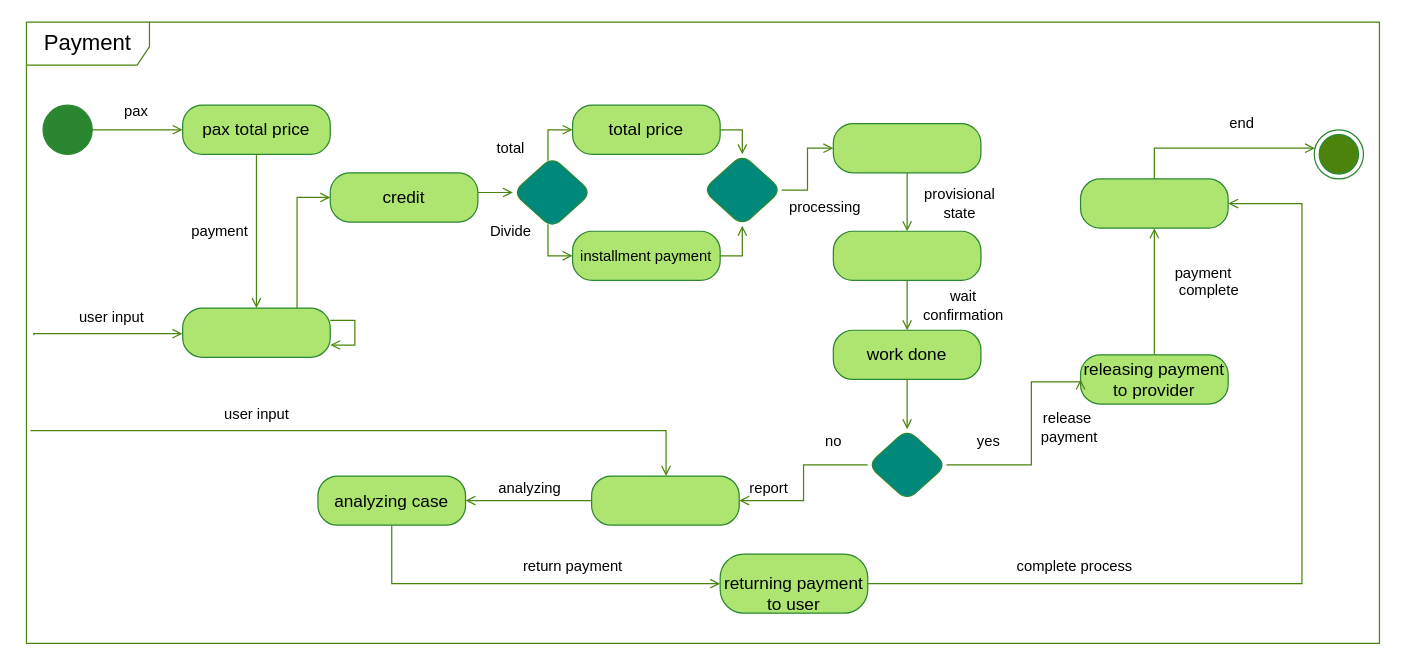
This 1401x664 diagram has some shape labels left out. The centre of each missing label's shape, as x and y in pixels:
"choosing payment methods" belongs at (255,332).
"completing payment" belongs at (1153,203).
"making report" belongs at (664,500).
"provisional fund" belongs at (906,255).
"waiting payment process" belongs at (906,147).
